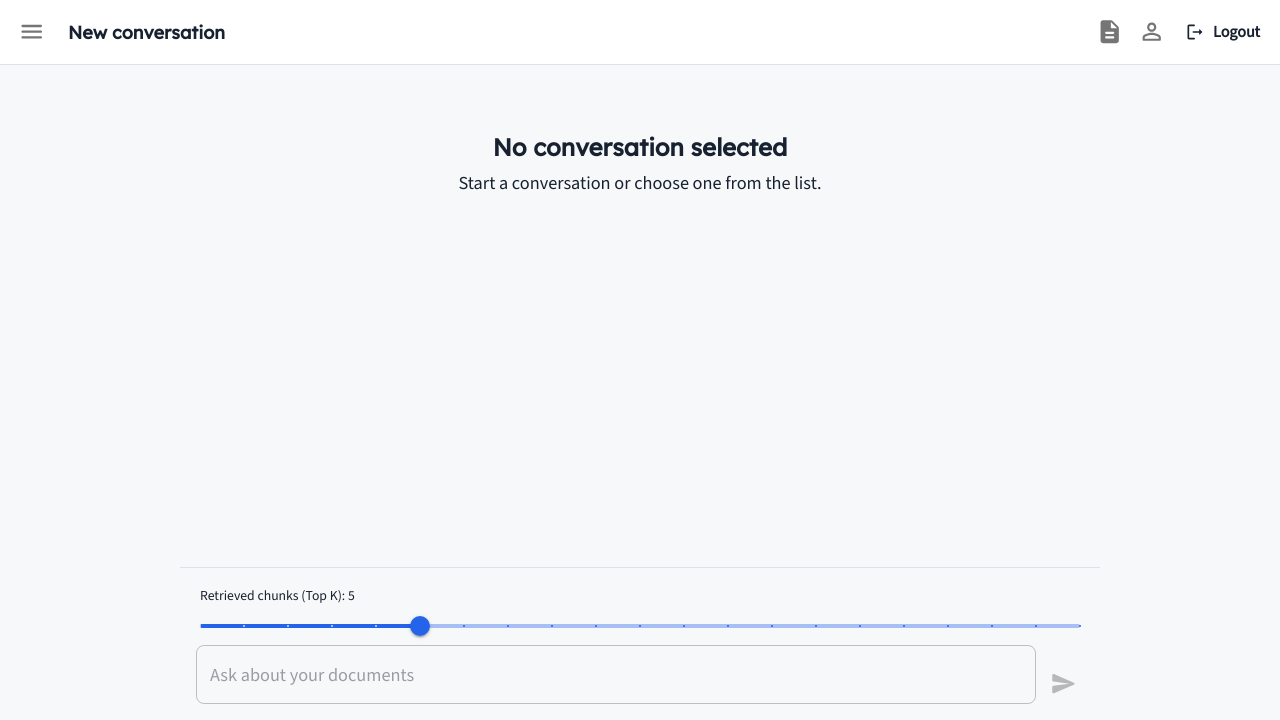
Test case: ChatWorkspace › opens the source drawer from an inline [1] citation marker
The image size is (1280, 720).
Type "What is the refund policy?" into the text box named "Question".
click(616, 674); type("What is the refund policy?")  # box [210,662,1022,688]
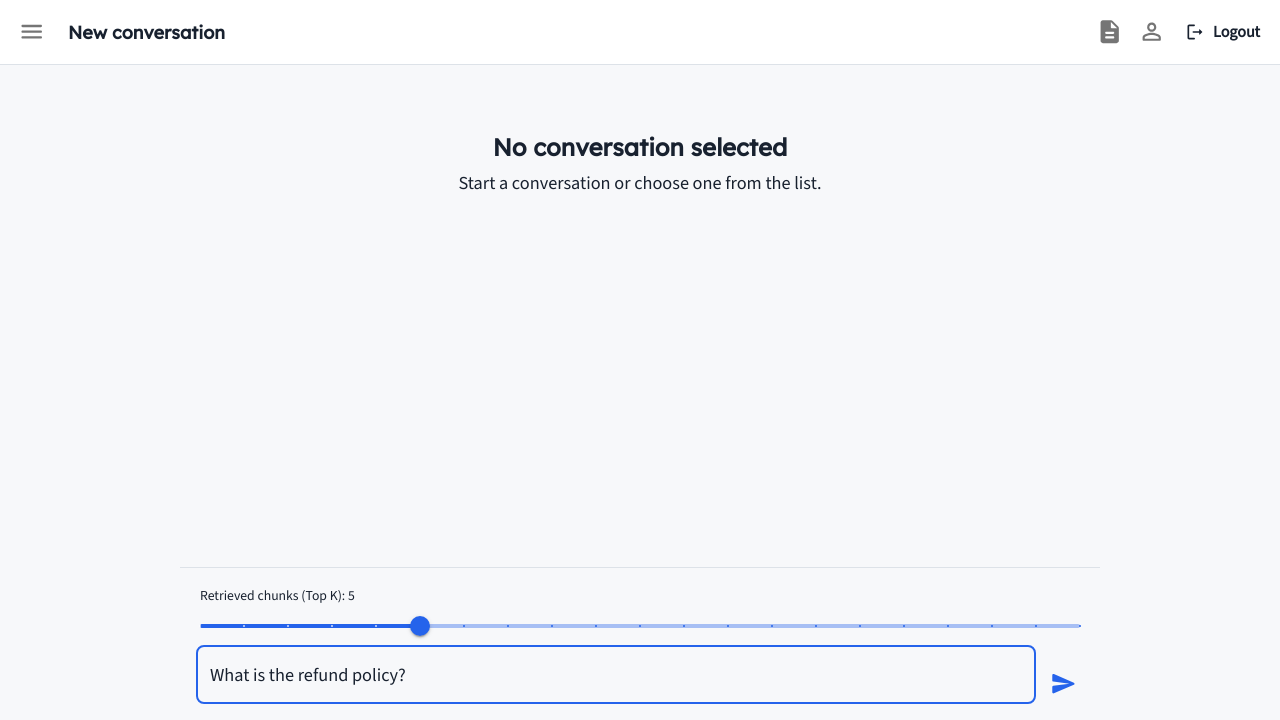
Check: the button named "Send message" is enabled, box [1044,664,1084,704]
Press Enter
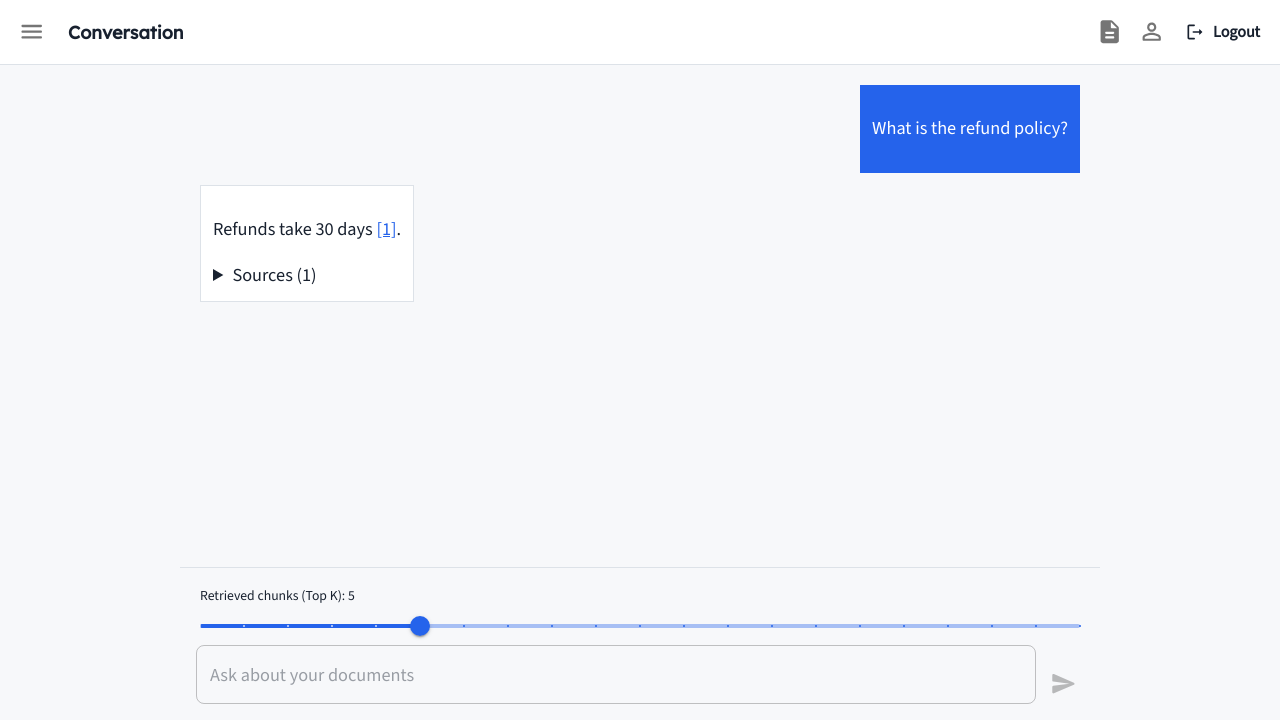
Check: the heading "Sources (1)" is shown, box [232,263,317,287]
Click the button "[1]".
click(386, 230)  # box [376,216,397,244]
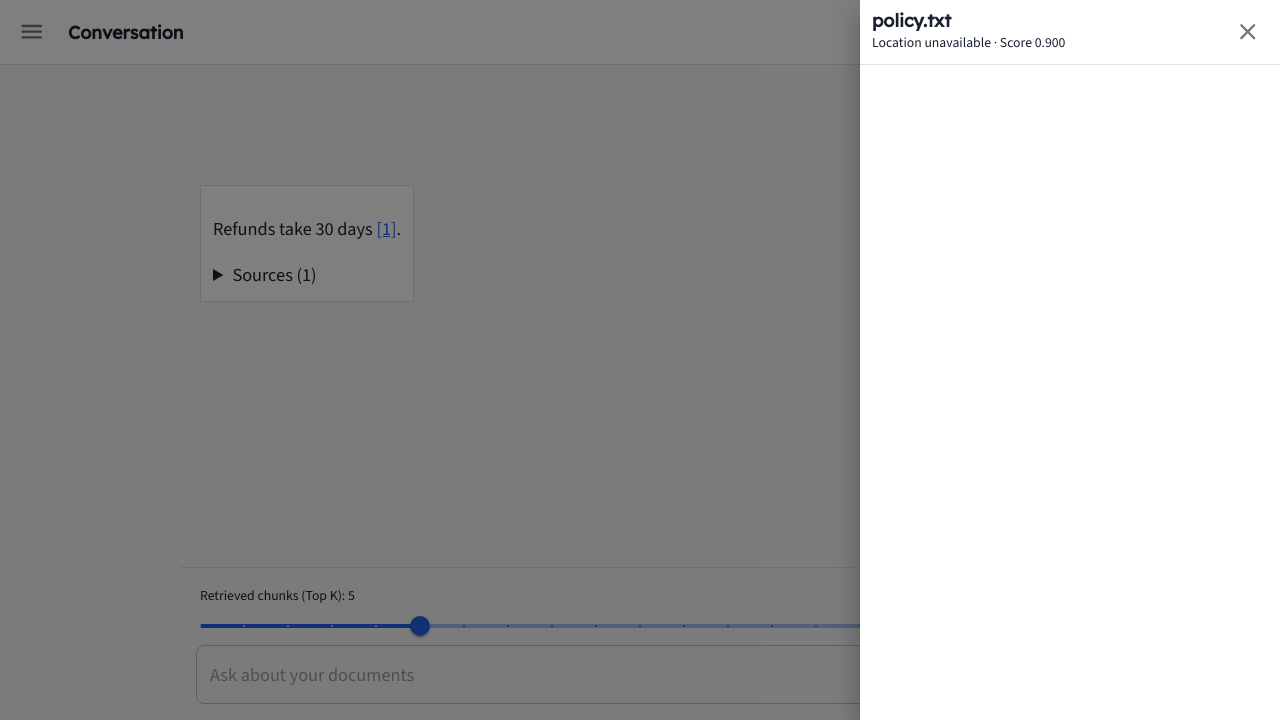
Check: the button named "Close source" is shown, box [1228,12,1268,52]
Check: the heading "policy.txt" is shown, box [872,9,951,32]
